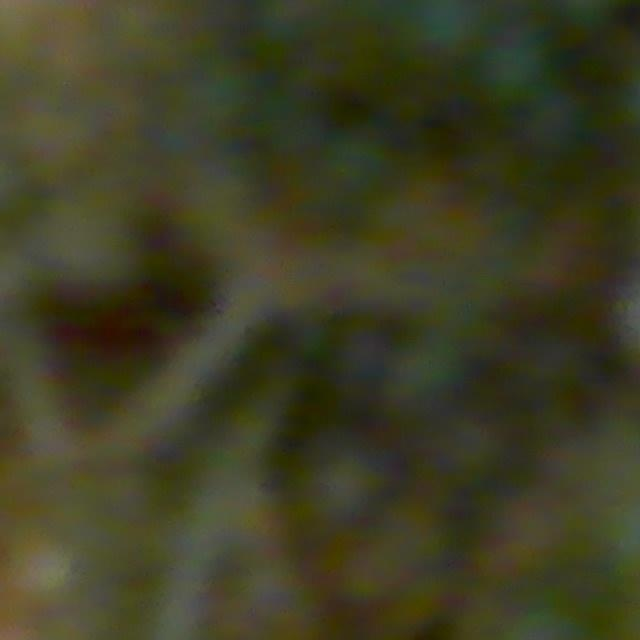SeaGrape: (477, 31, 550, 105)
